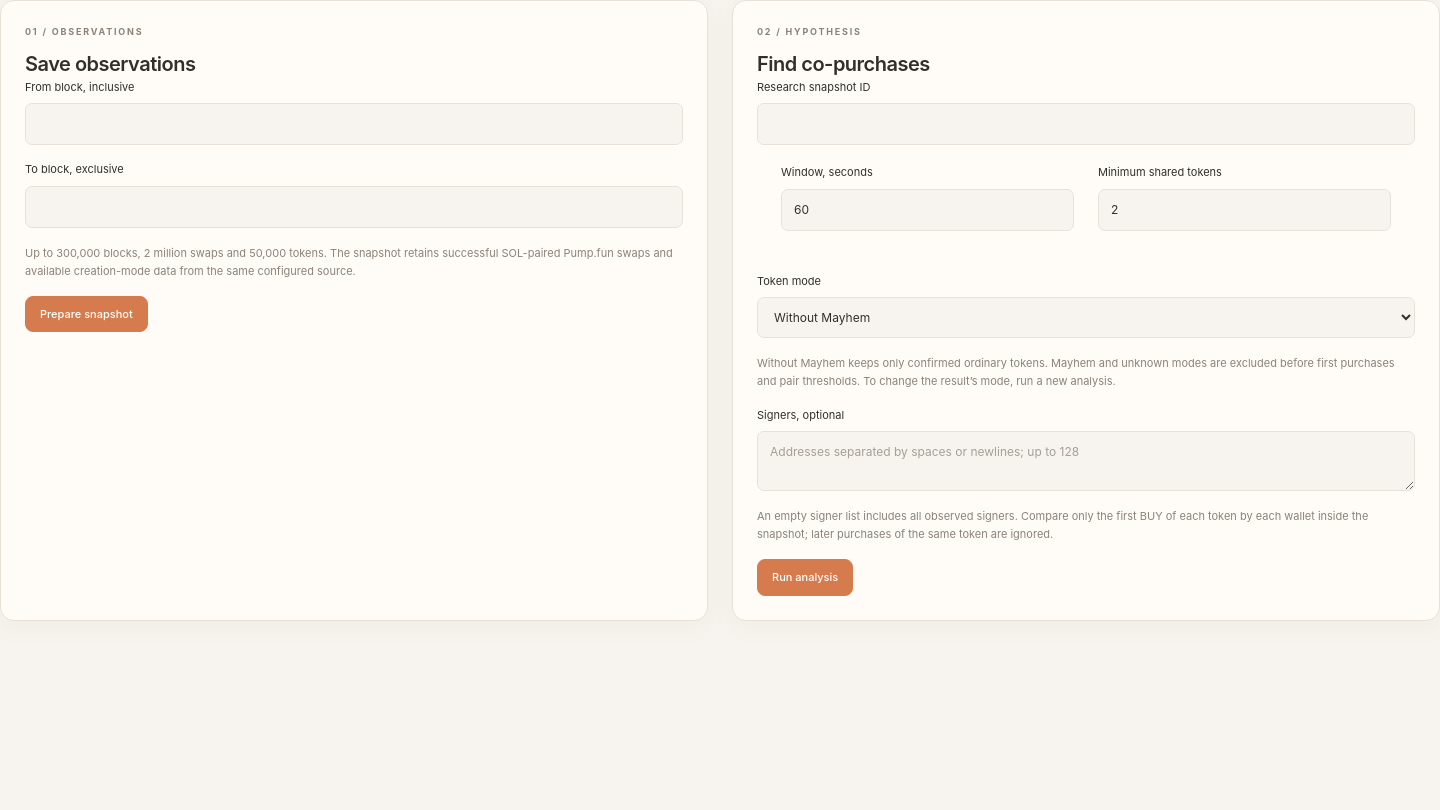
Test case: invalid block ranges and signer limits reject before transport
This screenshot has width=1440, height=810.
Type "200" into the number field labelled "From block, inclusive" at (354, 124), box 25,103 -> 683,145
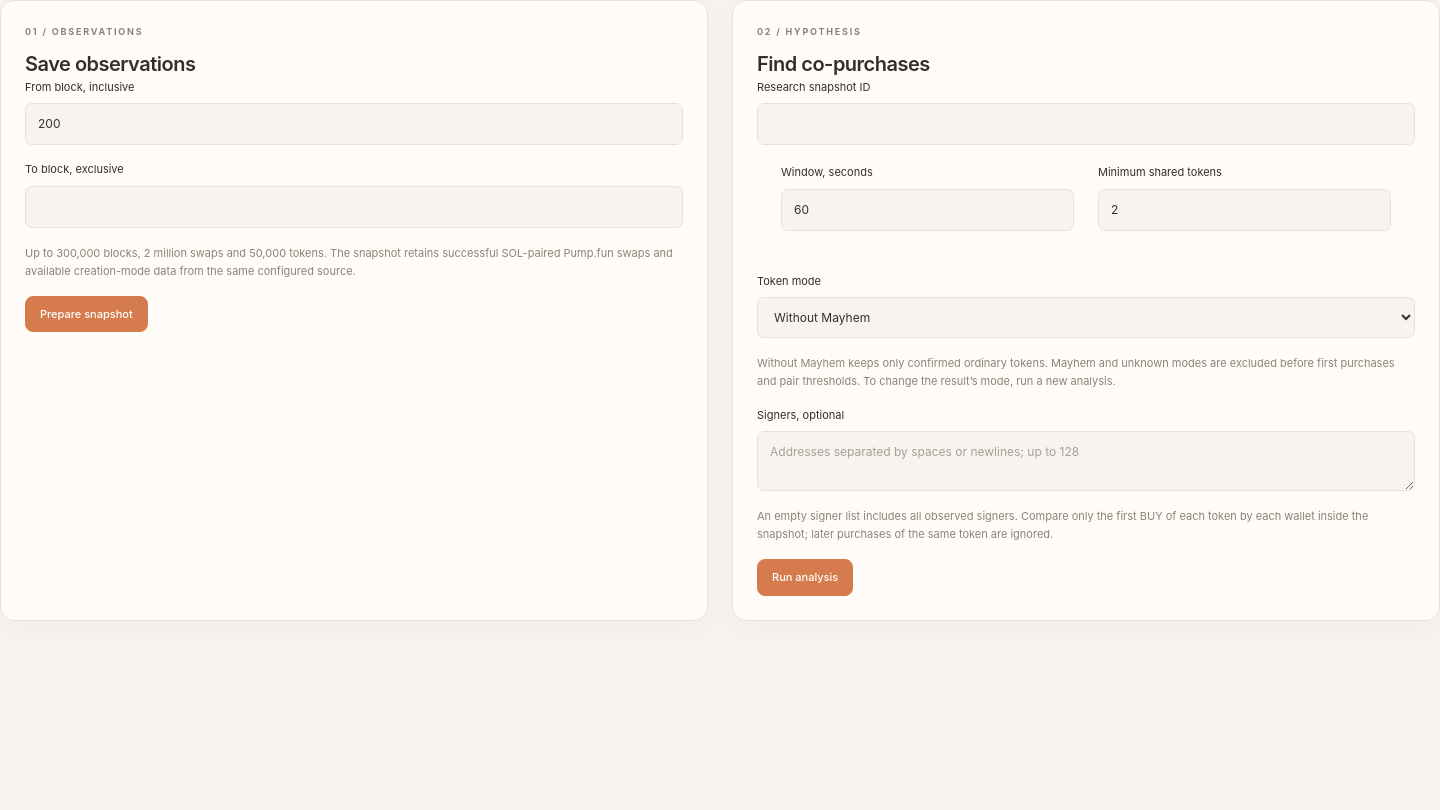
Type "100" into the number field labelled "To block, exclusive" at (354, 207), box 25,186 -> 683,228
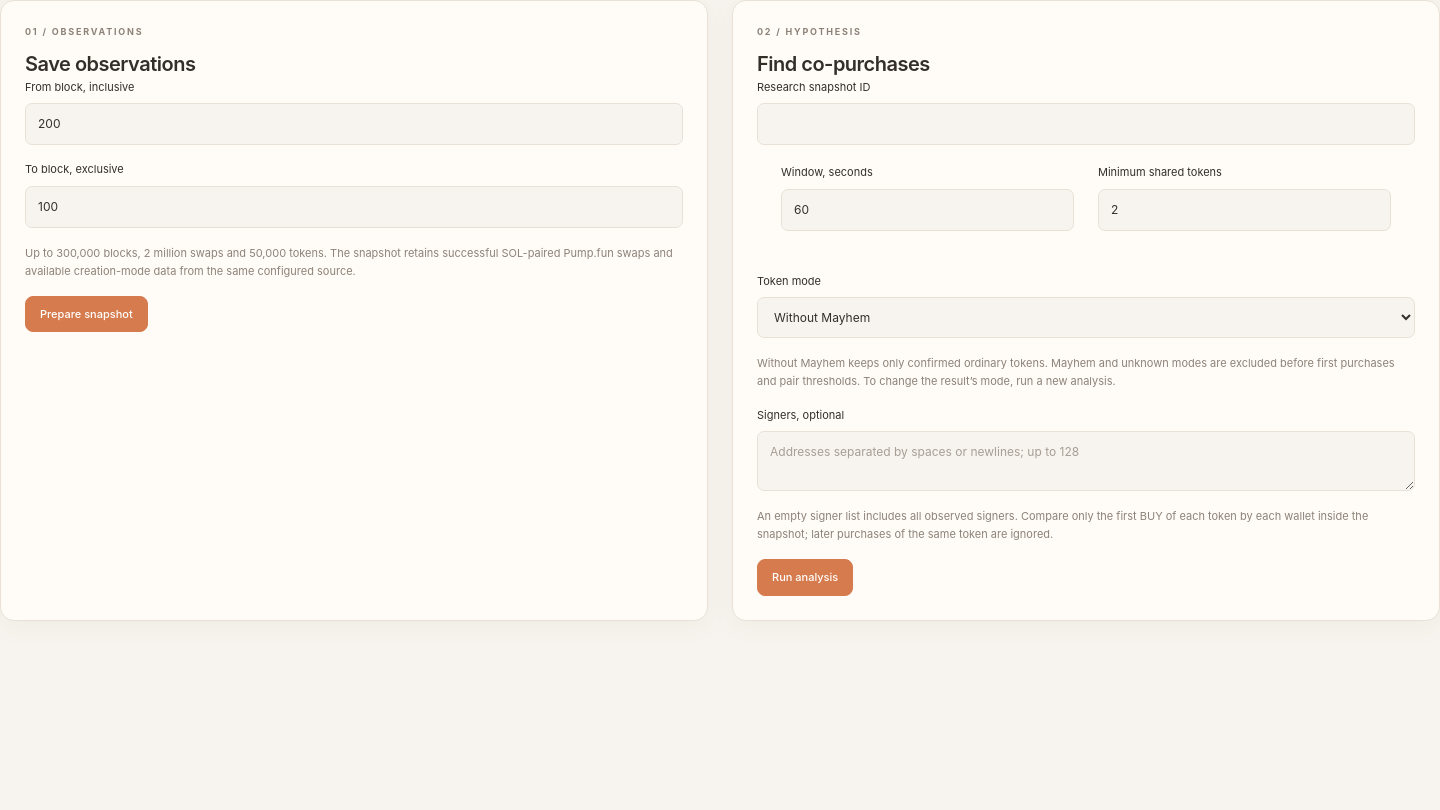
Submit the form named "Prepare research snapshot", box 25,79 -> 683,332
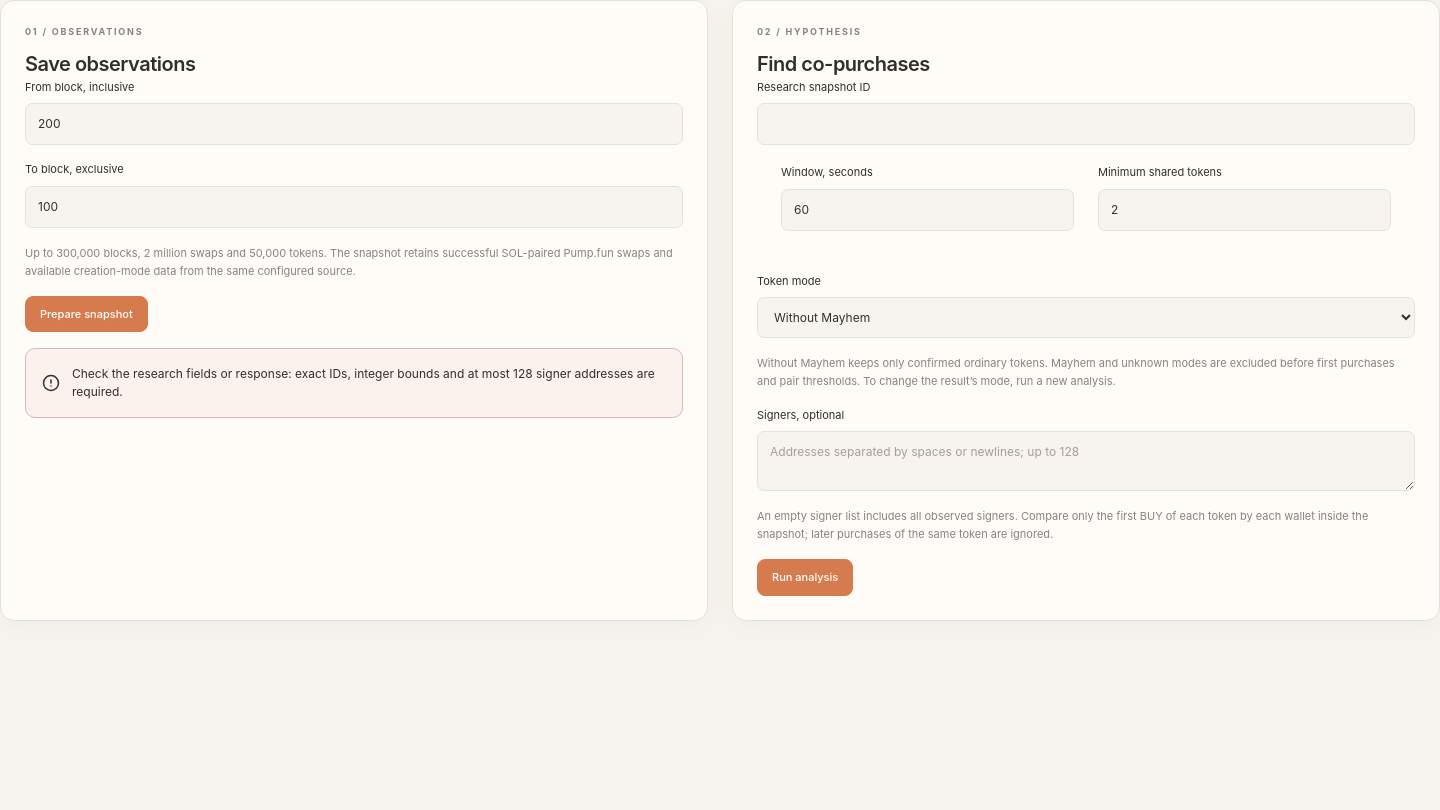
Check: the message is shown, box 25,348 -> 683,418
